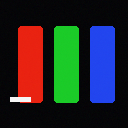3 line_h: (10, 97, 30, 101)
